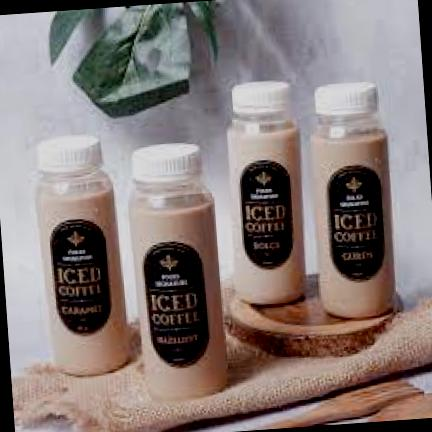container: (131, 142, 226, 399), (36, 134, 130, 373), (310, 81, 394, 317), (226, 80, 304, 303)
fluid: (134, 202, 225, 399), (39, 188, 130, 375), (312, 130, 394, 317), (228, 122, 304, 303)
fluid-surface: (129, 189, 212, 214), (36, 178, 111, 195), (230, 117, 295, 134), (317, 127, 383, 141)
